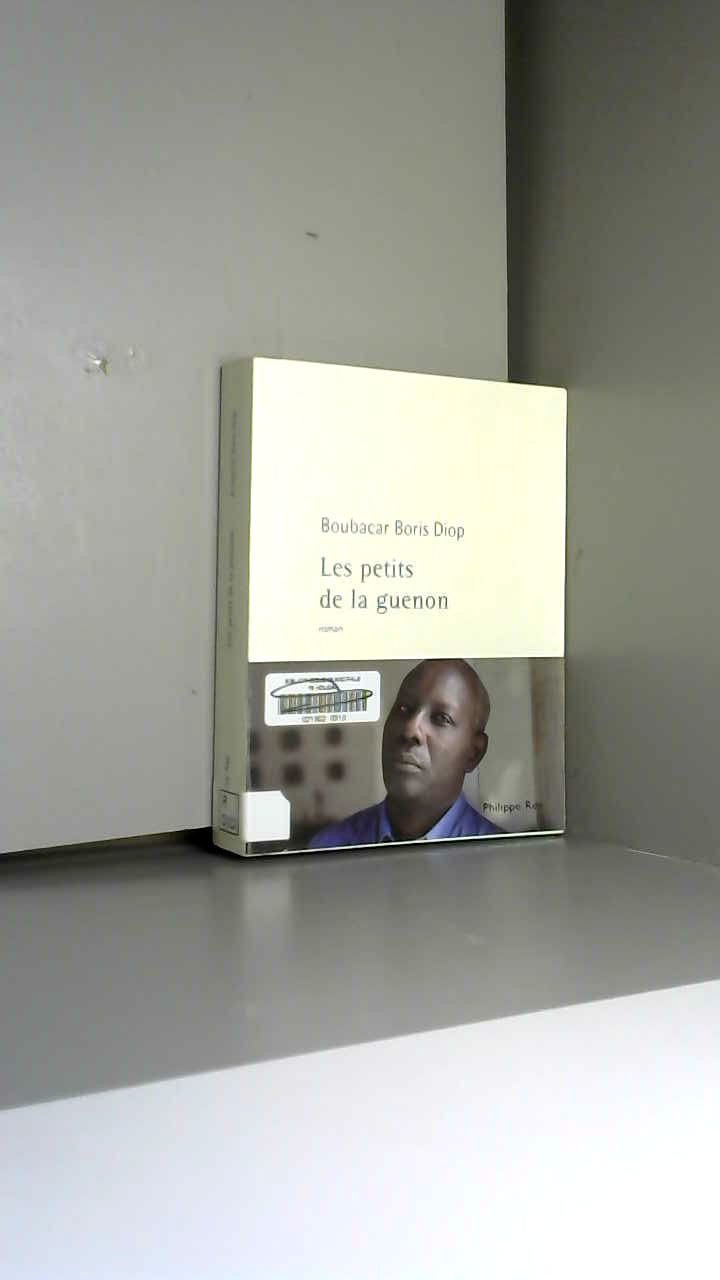book: (173, 323, 610, 898)
